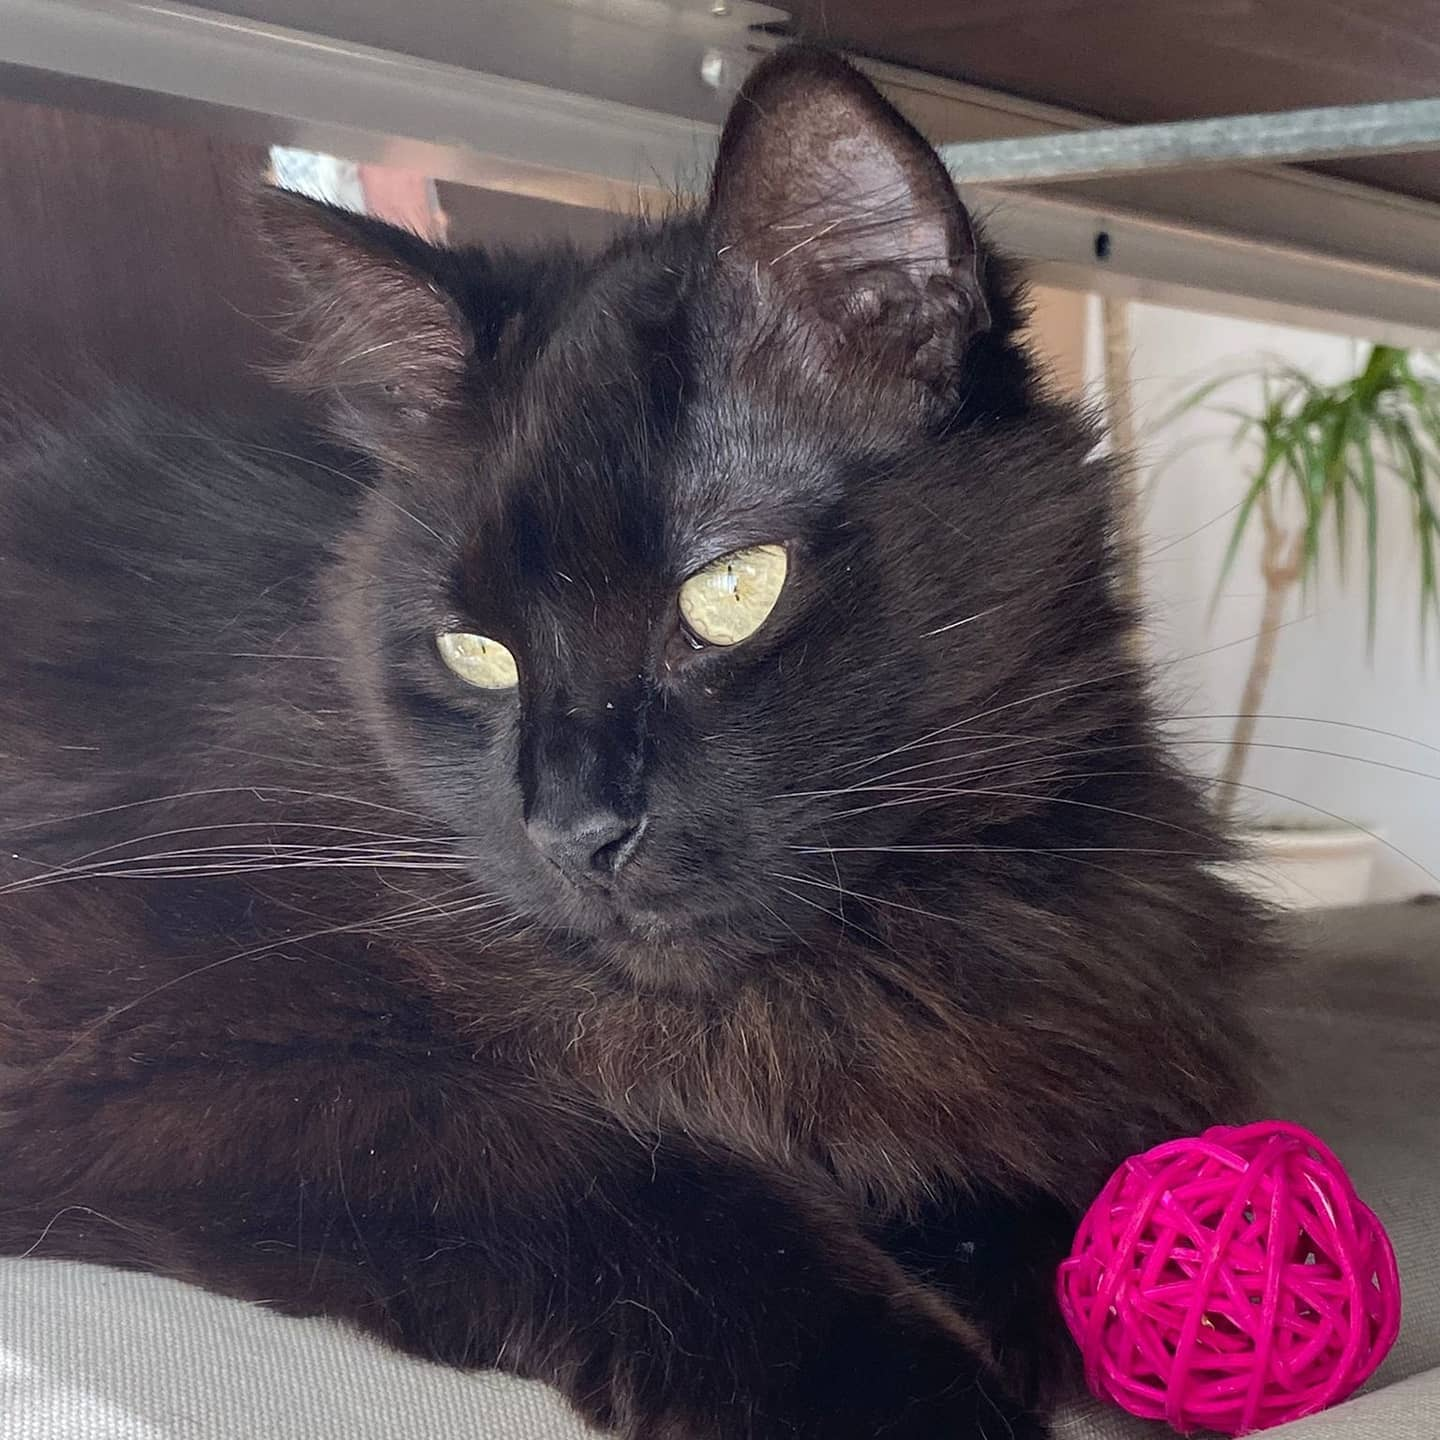cat: (28, 55, 1164, 1375)
